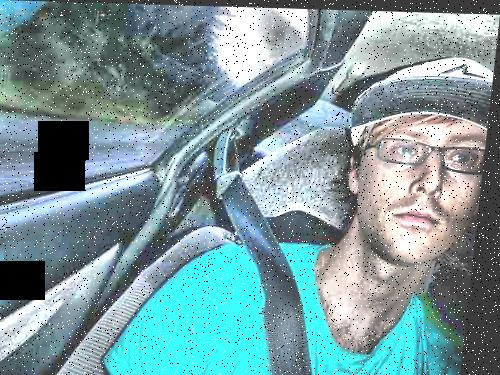seatbelt: (184, 148, 345, 351)
